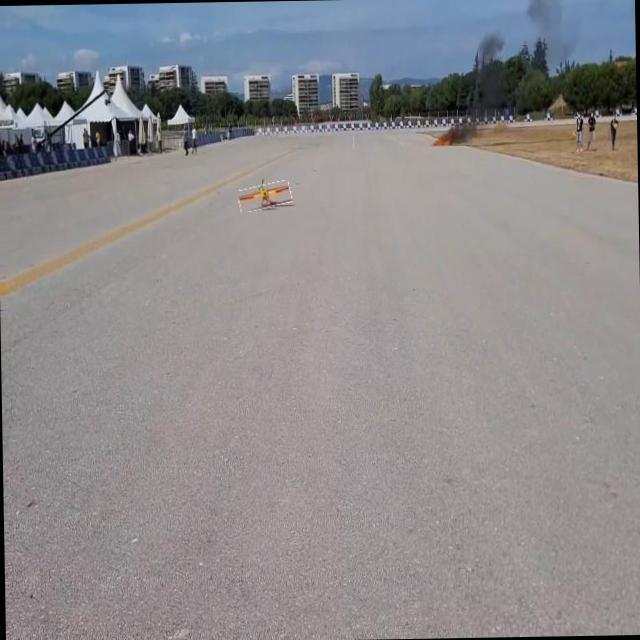iha: (273, 163, 277, 219)
